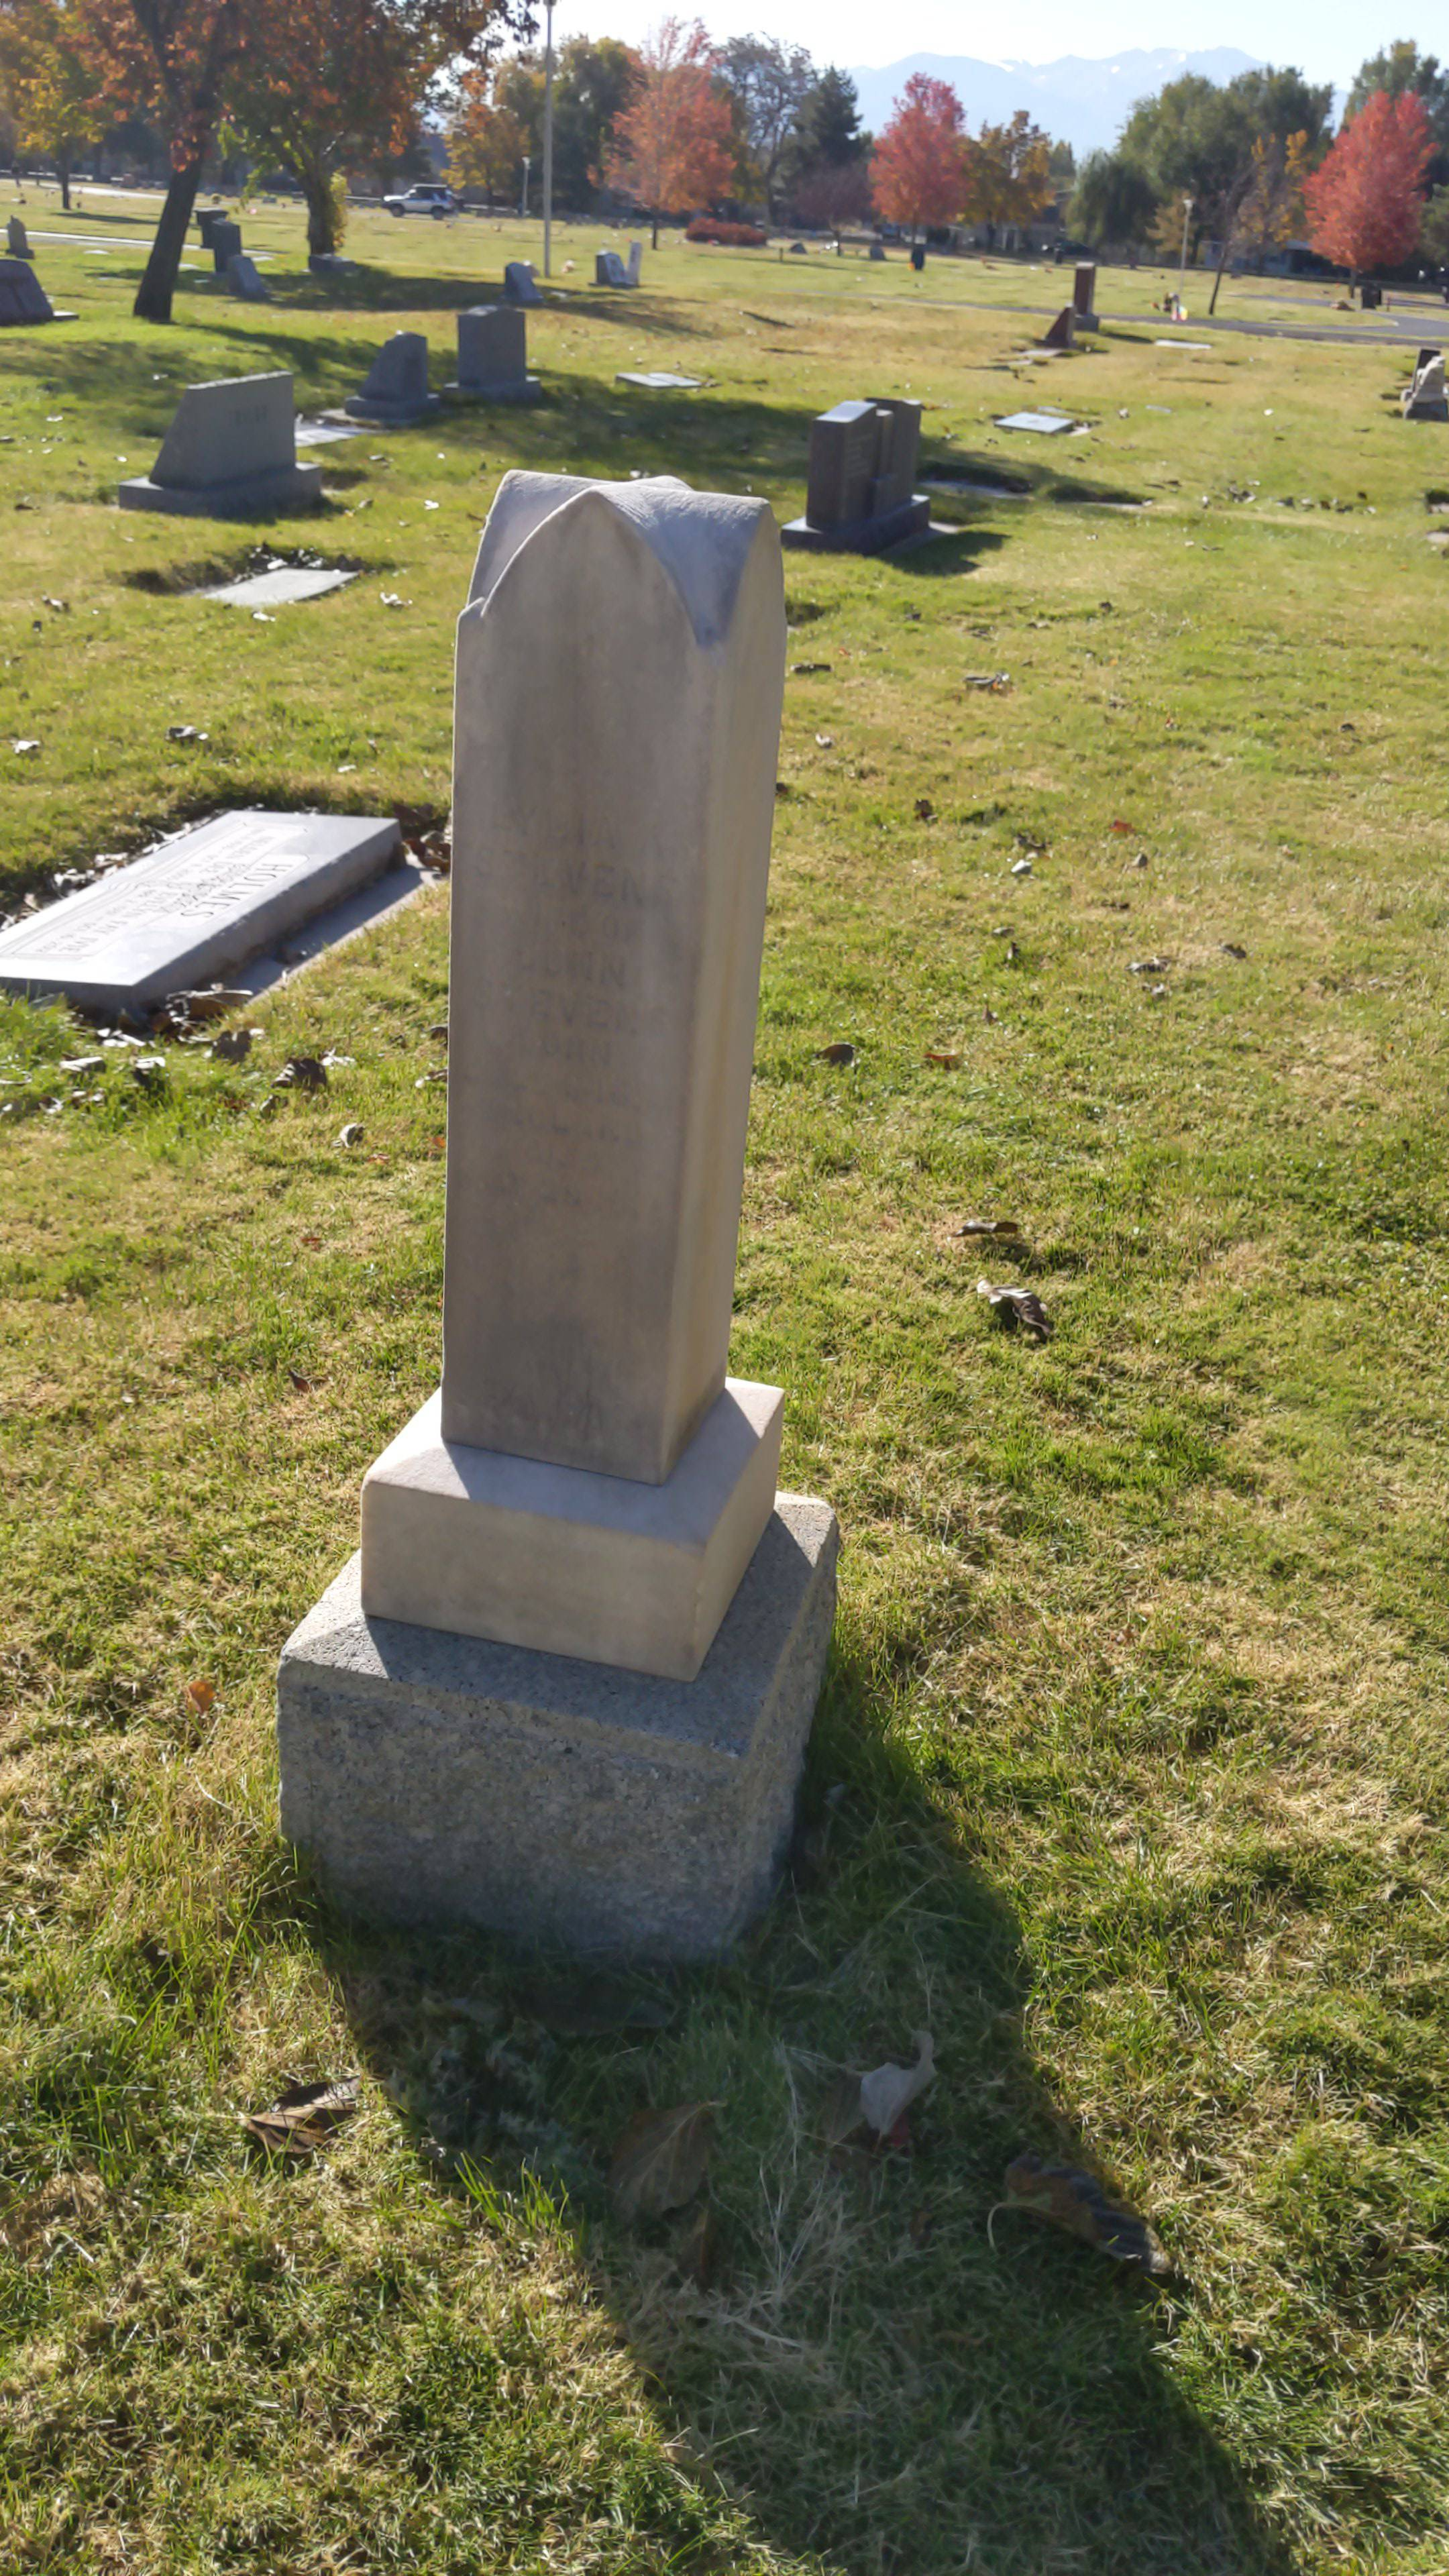obelisk: (370, 460, 782, 1690)
